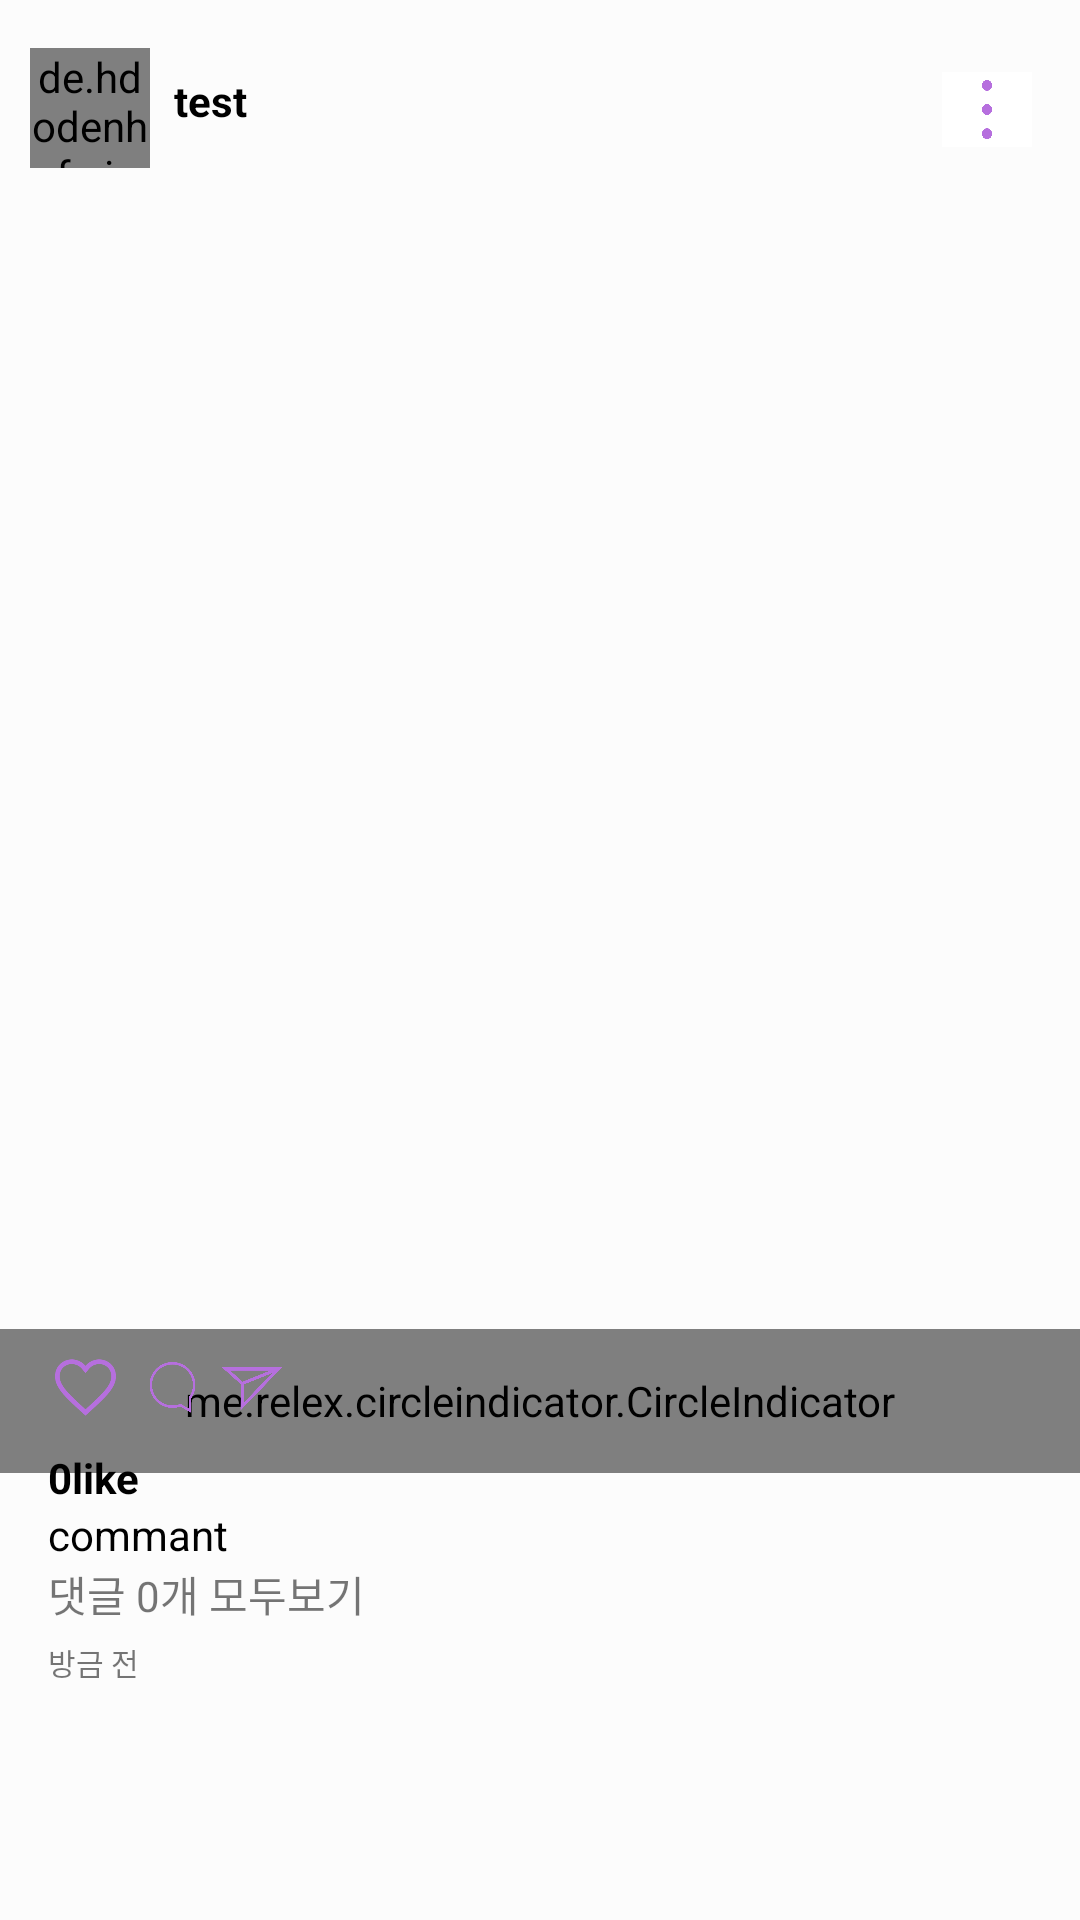

Icons on this 1080px×1920px Android screen, each with the point to tap as point (x, y):
home menu: point (987, 109)
